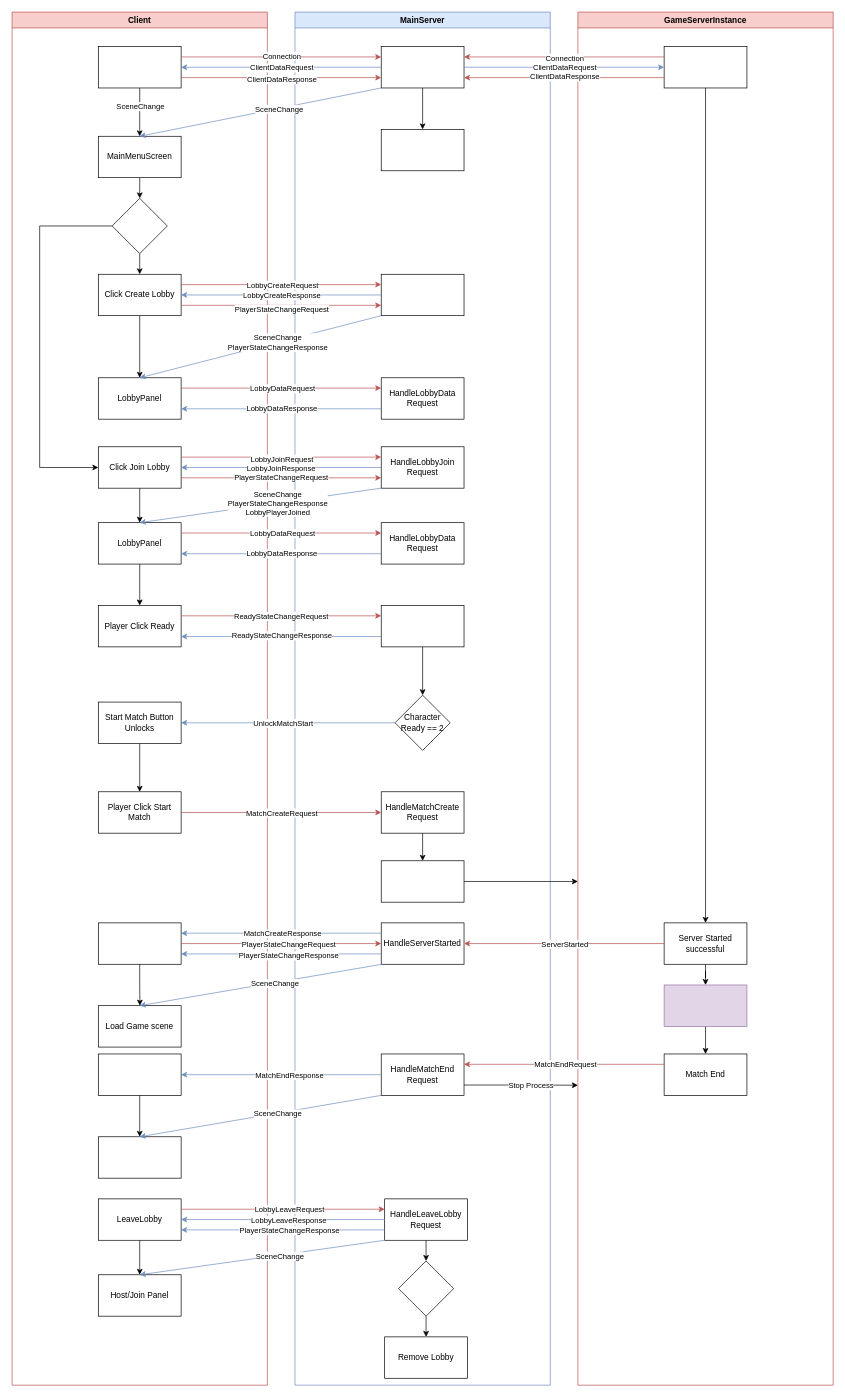
The diagram is 845 pixels wide and 1397 high, and some of its shapes have lost their labels. Each missing label, with the box of its shape:
Add Client to connected clients: (381, 129, 464, 171)
Click Connect: (98, 46, 181, 88)
Client Connection: (381, 46, 464, 88)
Connect: (663, 46, 747, 88)
Connect Player to game server: (98, 922, 181, 964)
Disconnect Player from game server: (98, 1053, 181, 1095)
HandleLobbyCreate Request: (381, 274, 464, 316)
HandleReadyState ChangeRequest: (381, 605, 464, 647)
Join/Host: (111, 198, 167, 254)
MainMenu scene Lobby: (98, 1136, 181, 1178)
Mirror: (663, 984, 747, 1026)
Players == 0: (398, 1260, 454, 1316)
Start Process: (381, 860, 464, 902)
